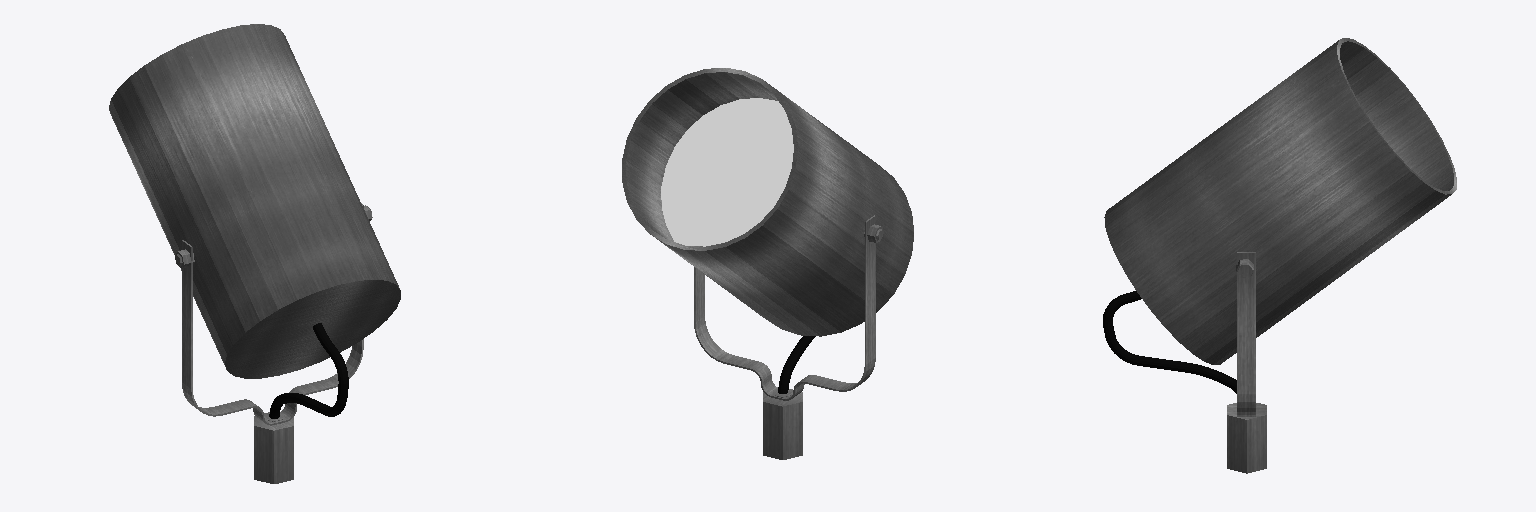
3 renders of one model, left to right at view 1: azimuth 30°, elevation 25°; view 2: azimuth 150°, elevation 25°; view 3: azimuth 270°, elevation 25°, orthographic.
Visible parts, largest first — view 1: Lighting(OBJ).004, Lighting(OBJ).001, Lighting(OBJ).003, Lighting(OBJ); view 2: Lighting(OBJ).004, Lighting(OBJ).005, Lighting(OBJ).001, Lighting(OBJ).003, Lighting(OBJ); view 3: Lighting(OBJ).004, Lighting(OBJ).001, Lighting(OBJ).003, Lighting(OBJ).
Boxes of the visible parts, <box> form: Lighting(OBJ).004: <box>109,24,400,378</box>; Lighting(OBJ).001: <box>182,203,363,425</box>; Lighting(OBJ).003: <box>254,412,293,483</box>; Lighting(OBJ): <box>269,323,348,418</box>; Lighting(OBJ).004: <box>622,68,913,336</box>; Lighting(OBJ).005: <box>661,98,793,246</box>; Lighting(OBJ).001: <box>694,215,875,400</box>; Lighting(OBJ).003: <box>763,389,802,459</box>; Lighting(OBJ): <box>778,336,815,393</box>; Lighting(OBJ).004: <box>1104,38,1456,364</box>; Lighting(OBJ).001: <box>1237,252,1255,416</box>; Lighting(OBJ).003: <box>1227,403,1266,473</box>; Lighting(OBJ): <box>1103,291,1236,393</box>.
Size of the model in its own units: 59 by 122 by 94.88.
4 materials, 3 textured.